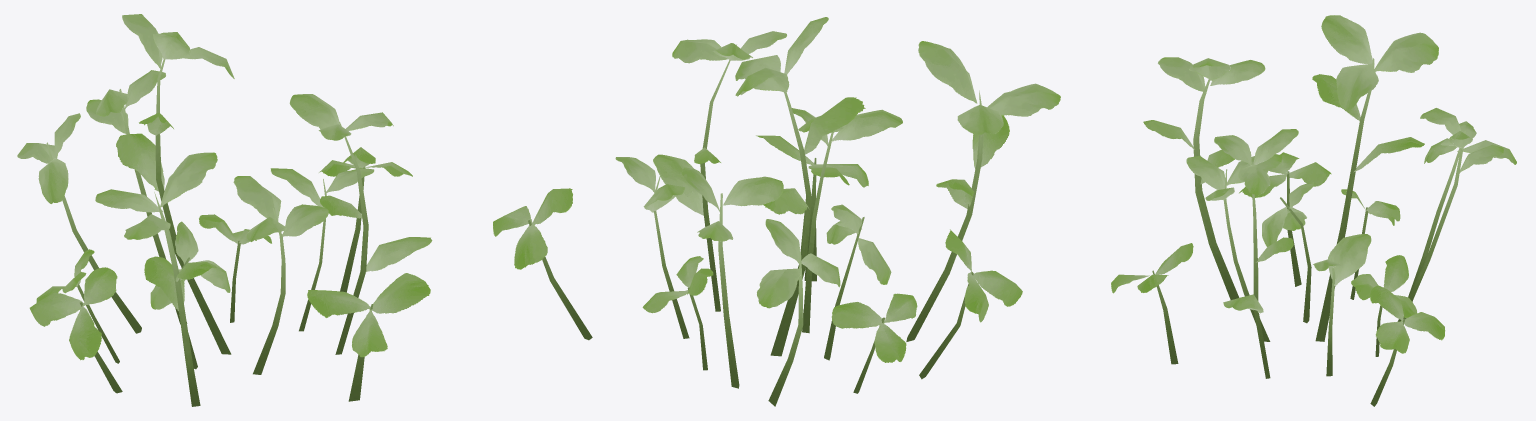
Rendered from Area_Dq_Grass_HZD_RaioCotterBud_01.fbx.
3 views of the same model, side by side, from view 1: azimuth 30°, elevation 25°; view 2: azimuth 150°, elevation 25°; view 3: azimuth 270°, elevation 25° (orthographic). The views are drawn at different scales.
Parts seen in each view (by area): view 1: Area_Dq_Grass_HZD_RaioCotterBud_01_Lod0; view 2: Area_Dq_Grass_HZD_RaioCotterBud_01_Lod0; view 3: Area_Dq_Grass_HZD_RaioCotterBud_01_Lod0.
Boxes of the visible parts, left/top/right/bottom form: Area_Dq_Grass_HZD_RaioCotterBud_01_Lod0: left=17, top=14, right=432, bottom=406; Area_Dq_Grass_HZD_RaioCotterBud_01_Lod0: left=493, top=17, right=1060, bottom=406; Area_Dq_Grass_HZD_RaioCotterBud_01_Lod0: left=1111, top=15, right=1516, bottom=406.
Bounding box in the file's own units: 1.35 × 0.9839 × 1.24.
1 material, 1 textured.
